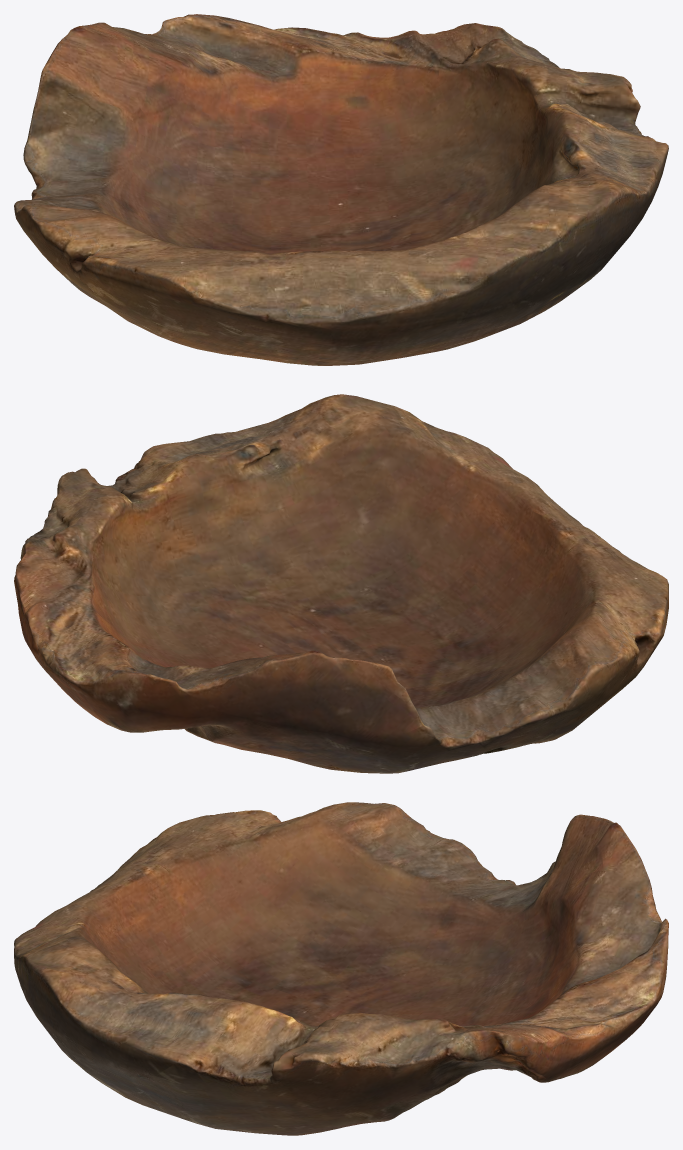
Rendered from wooden_bowl_01.gltf.
3 renders of one model, top to bottom at view 1: azimuth 30°, elevation 25°; view 2: azimuth 150°, elevation 25°; view 3: azimuth 270°, elevation 25°, orthographic. The views are drawn at different scales.
Visible parts, largest first — view 1: wooden_bowl_01; view 2: wooden_bowl_01; view 3: wooden_bowl_01.
Boxes of the visible parts, x1,y1,x2,y2 form: wooden_bowl_01: (14,14,668,365); wooden_bowl_01: (14,394,668,773); wooden_bowl_01: (14,802,668,1135).
Bounding box in the file's own units: 0.3131 × 0.0937 × 0.3091.
1 material, 1 textured.
